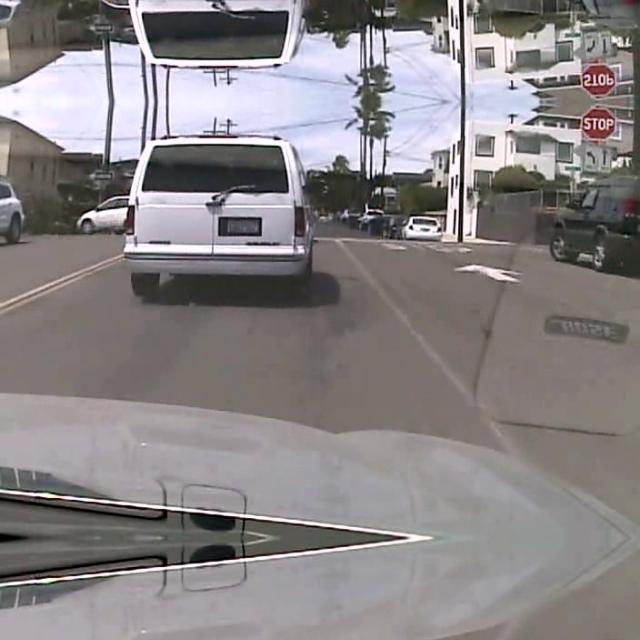stop: (580, 105, 616, 139), (580, 63, 616, 97)
